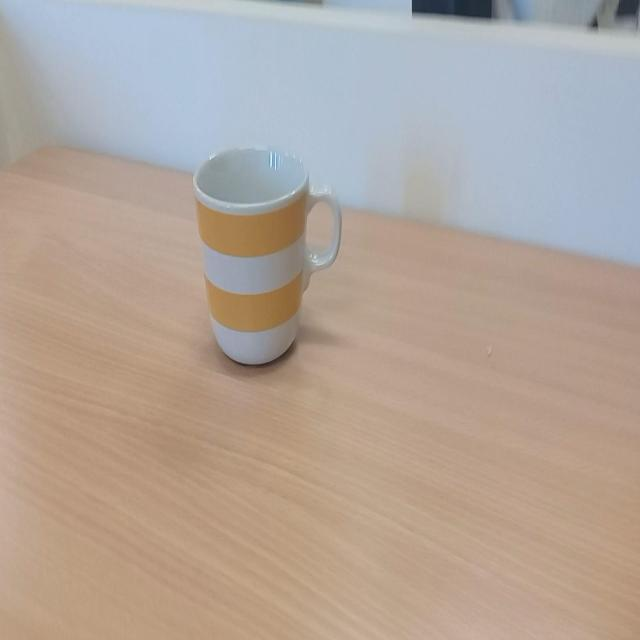cup: (191, 142, 346, 378)
